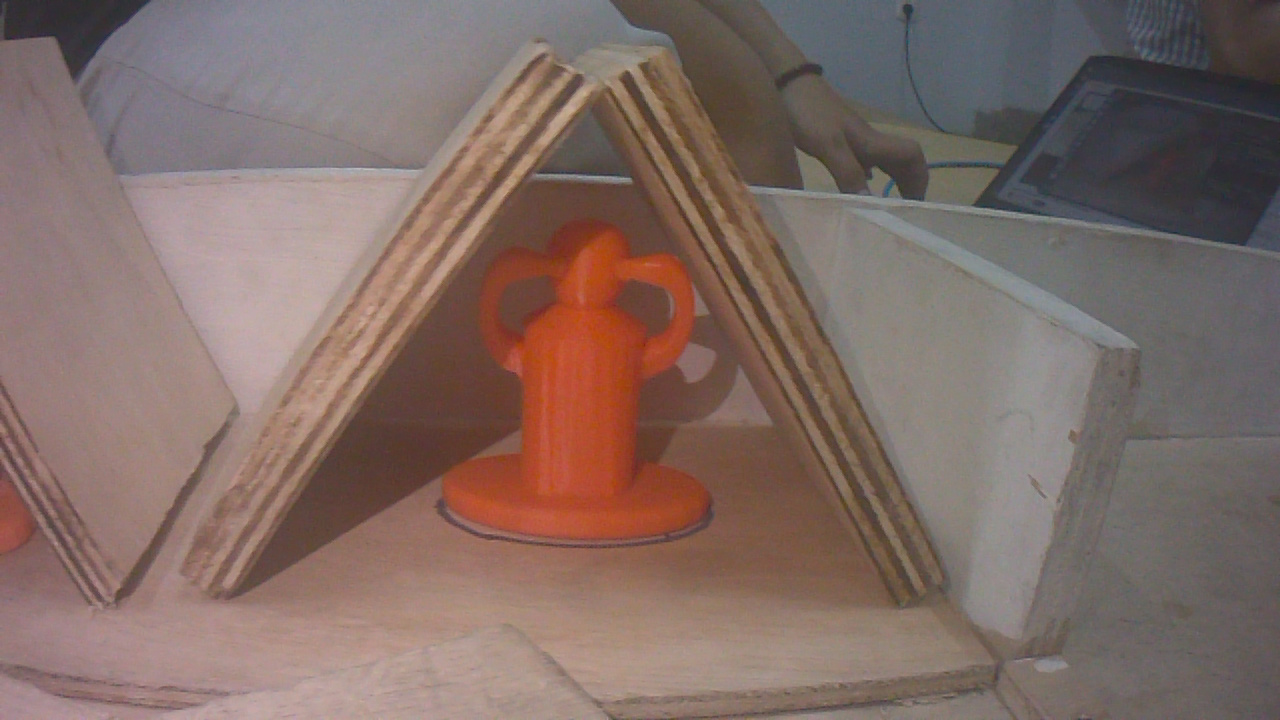real: (447, 212, 702, 549)
